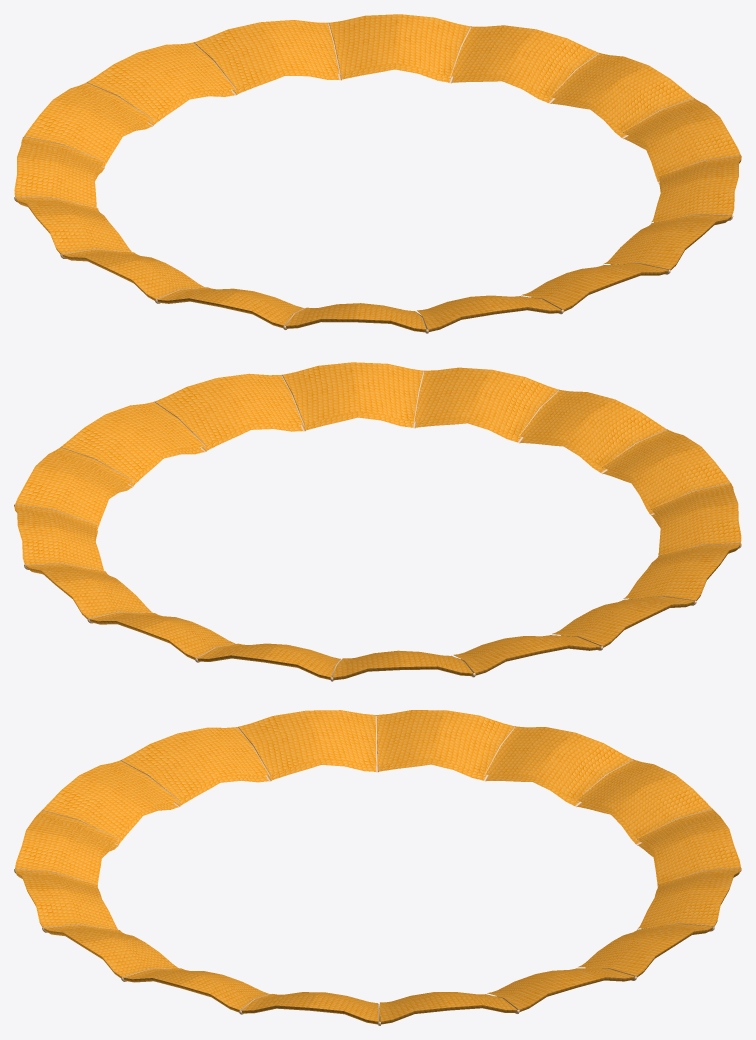
The model's file is outerceiling.glb.
3 renders of one model, top to bottom at view 1: azimuth 30°, elevation 25°; view 2: azimuth 150°, elevation 25°; view 3: azimuth 270°, elevation 25°, orthographic.
Parts seen in each view (by area): view 1: OuterCeiling; view 2: OuterCeiling; view 3: OuterCeiling.
Part boxes in pixels (x1,y1,x2,y2): OuterCeiling: (14,14,741,333); OuterCeiling: (14,362,741,681); OuterCeiling: (14,710,741,1025).
Size of what is drawn, in the model's own units: 43.58 by 2.12 by 43.58.
Materials: 2 (1 with a texture image).
